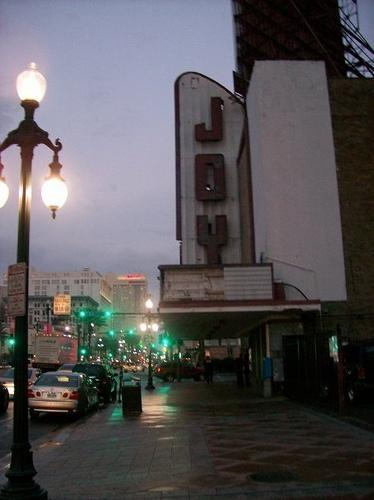car: (28, 372, 102, 421), (70, 364, 119, 404), (153, 359, 206, 383), (2, 366, 44, 396), (124, 361, 148, 373)
truck: (151, 362, 206, 382), (32, 334, 60, 371)
